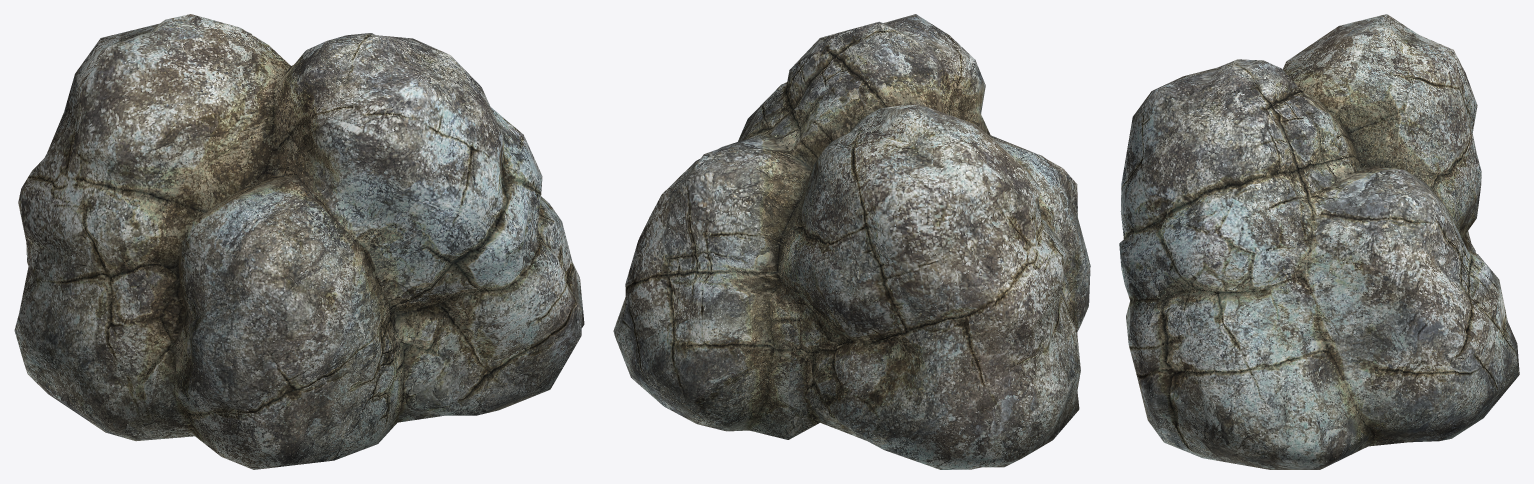
File: Rock4.fbx
3 renders of one model, left to right at view 1: azimuth 30°, elevation 25°; view 2: azimuth 150°, elevation 25°; view 3: azimuth 270°, elevation 25°, orthographic. The views are drawn at different scales.
Parts seen in each view (by area): view 1: Rock4_1000_Group24835; view 2: Rock4_1000_Group24835; view 3: Rock4_1000_Group24835.
Boxes of the visible parts, <box> form: Rock4_1000_Group24835: <box>14,14,584,469</box>; Rock4_1000_Group24835: <box>613,14,1090,469</box>; Rock4_1000_Group24835: <box>1119,14,1519,469</box>.
Bounding box in the file's own units: 6.26 × 4.63 × 5.03.
